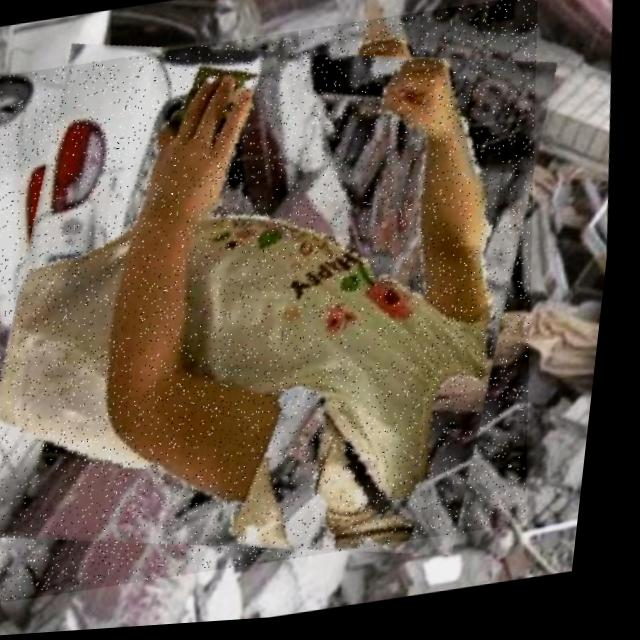Person in Rubble: (0, 0, 584, 608)
